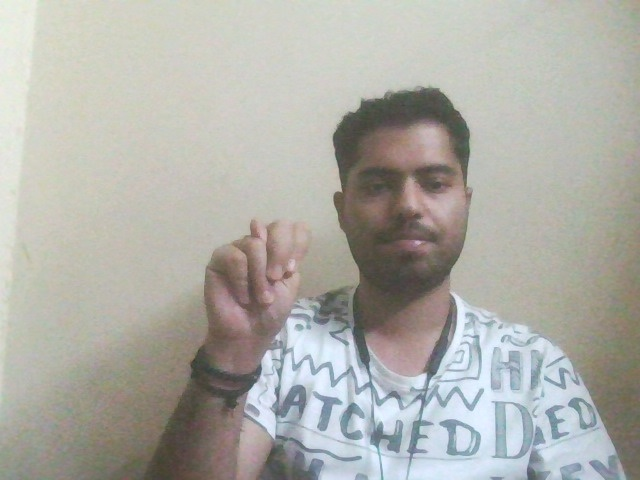P: (179, 202, 320, 346)
